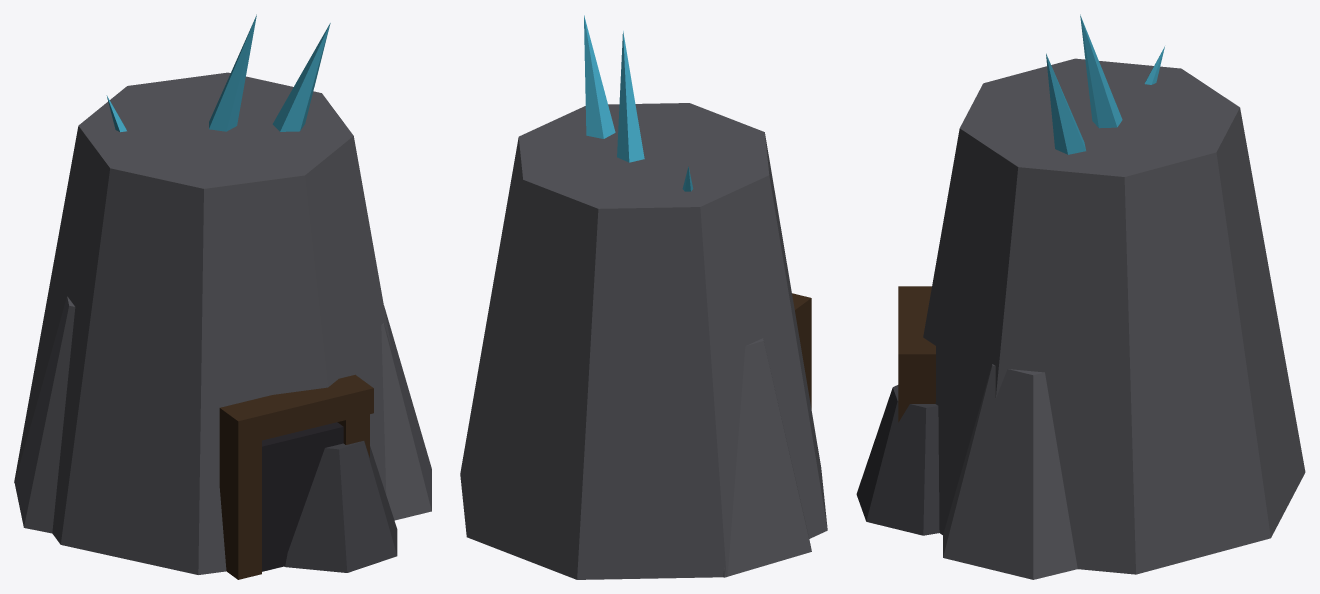
Rendered from mine_lowpoly.glb.
3 renders of one model, left to right at view 1: azimuth 30°, elevation 25°; view 2: azimuth 150°, elevation 25°; view 3: azimuth 270°, elevation 25°, orthographic. The views are drawn at different scales.
Parts seen in each view (by area): view 1: lp_mine; view 2: lp_mine; view 3: lp_mine.
Boxes of the visible parts, left/top/right/bottom form: lp_mine: left=14, top=14, right=431, bottom=579; lp_mine: left=460, top=15, right=827, bottom=579; lp_mine: left=856, top=14, right=1305, bottom=579.
Bounding box in the file's own units: 0.9191 × 1.14 × 0.9462.
